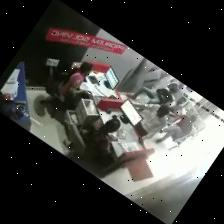person: (50, 62, 91, 117), (79, 117, 119, 160), (133, 102, 169, 144), (58, 62, 91, 99), (155, 115, 195, 142), (131, 84, 176, 103), (170, 97, 184, 113)
